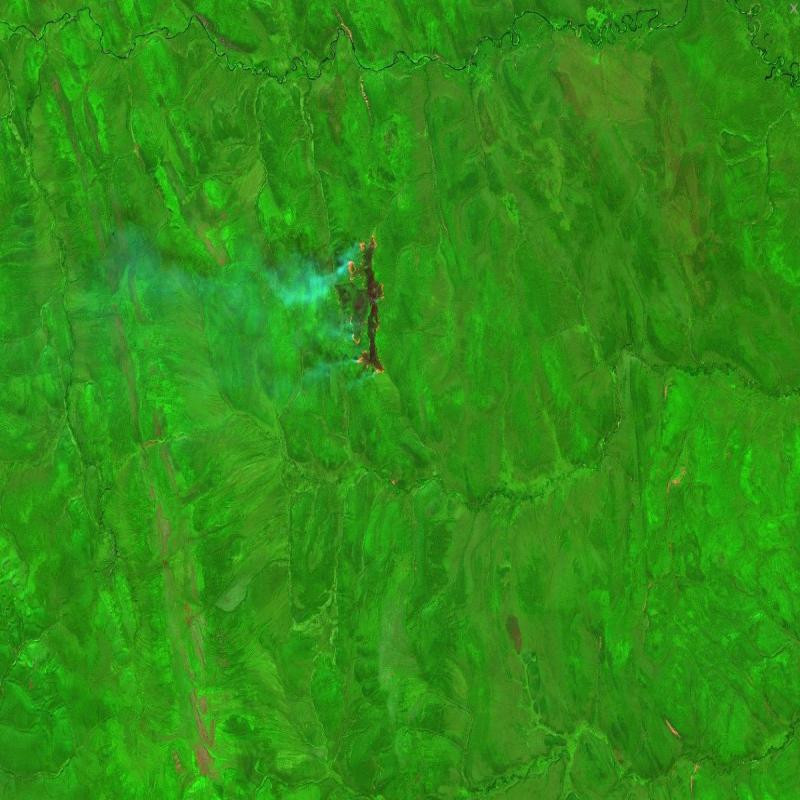fire: (338, 226, 390, 392)
